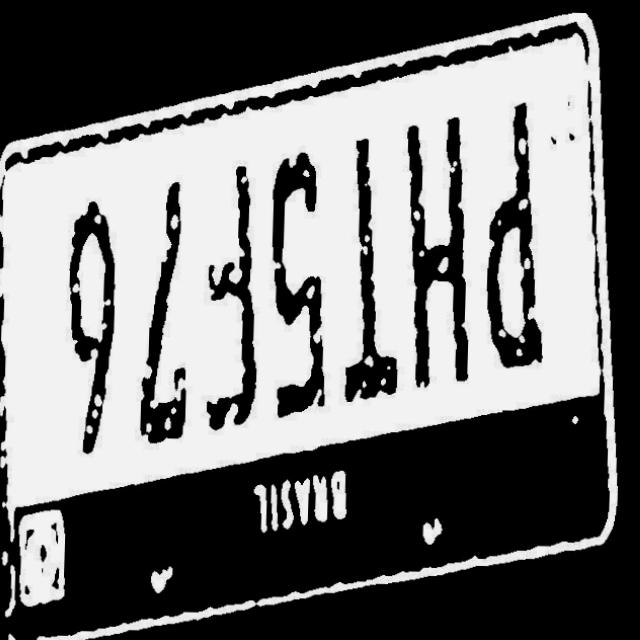5: (266, 137, 346, 422)
6: (54, 184, 126, 459)
7: (129, 165, 200, 453)
f: (201, 146, 272, 439)
h: (403, 95, 493, 396)
p: (477, 78, 560, 379)
t: (338, 119, 414, 404)
